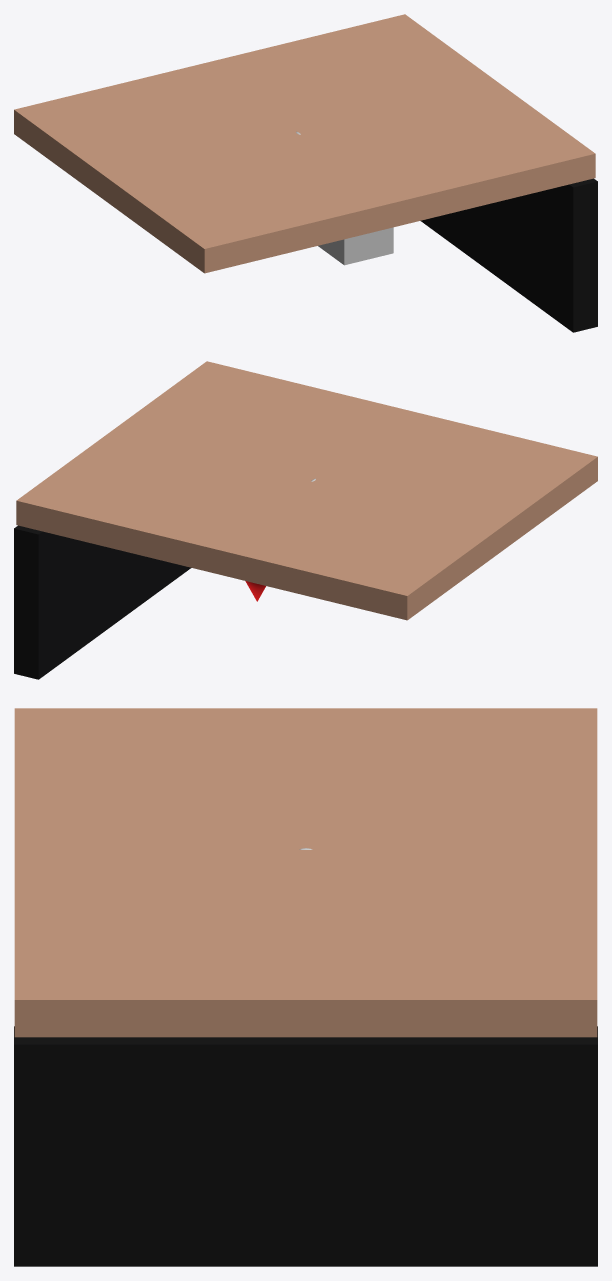
3 views of the same model, one above another, from view 1: azimuth 30°, elevation 25°; view 2: azimuth 150°, elevation 25°; view 3: azimuth 270°, elevation 25° (orthographic). The views are drawn at different scales.
Visible parts, largest first — view 1: Cube.001, Cube.002, Cube.001.000; view 2: Cube.001, Cube.002; view 3: Cube.001, Cube.002.
Boxes of the visible parts, x1,y1,x2,y2 form: Cube.001: [14, 14, 595, 273]; Cube.002: [420, 178, 597, 332]; Cube.001.000: [318, 227, 393, 265]; Cube.001: [16, 361, 597, 620]; Cube.002: [14, 525, 191, 679]; Cube.001: [14, 708, 597, 1037]; Cube.002: [14, 1026, 597, 1266].
Bounding box in the file's own units: 31.83 × 13.45 × 26.78.
